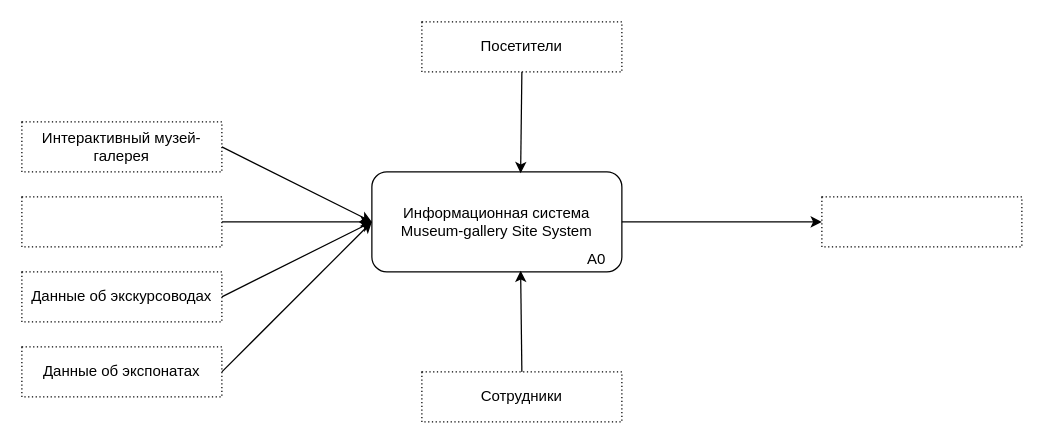
This 1044x444 diagram has some shape labels left out. The centre of each missing label's shape, as x and y in pixels:
База данных с хранением информации об эскпонатах: the point at 121,221
Проданные билеты: the point at 921,221
